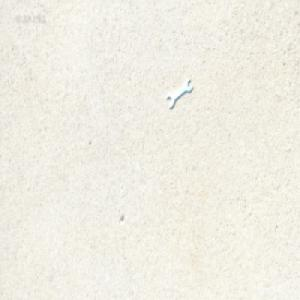Wrench: (167, 80, 190, 109)
